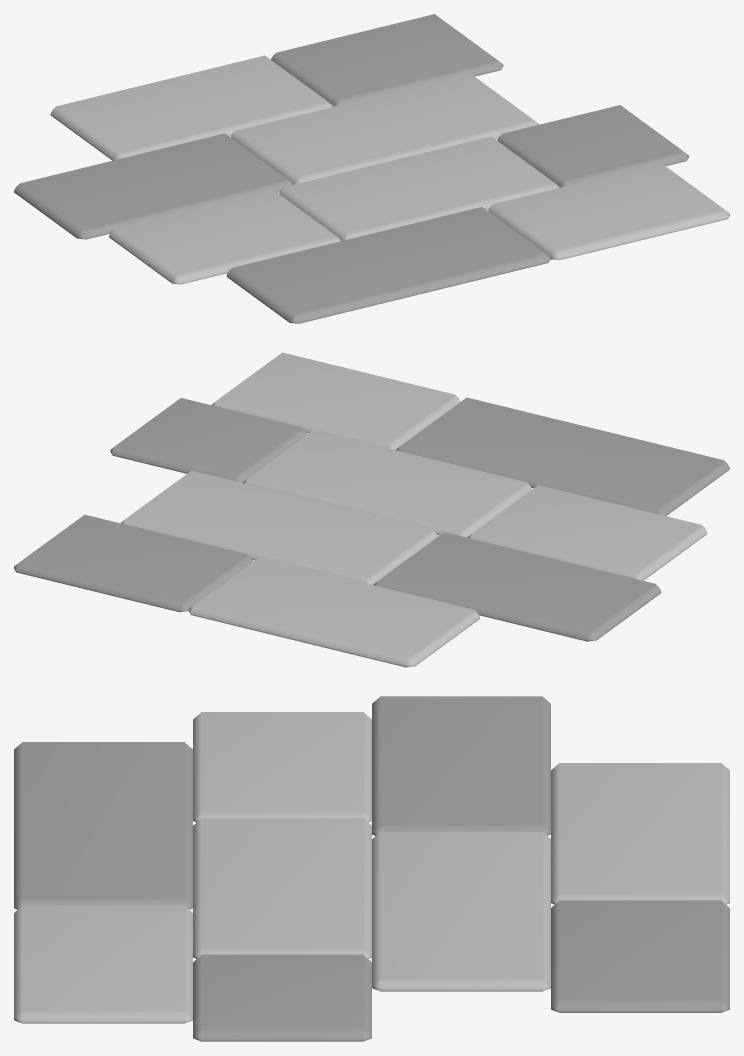
The model's file is Town_8_Path_1.glb.
The picture shows the model from 3 angles, top to bottom: view 1: azimuth 30°, elevation 25°; view 2: azimuth 150°, elevation 25°; view 3: azimuth 270°, elevation 25°; orthographic projection. The views are drawn at different scales.
Visible parts, largest first — view 1: Town_8_Path_1; view 2: Town_8_Path_1; view 3: Town_8_Path_1.
Part boxes in pixels (x1,y1,x2,y2): Town_8_Path_1: (14,14,729,323); Town_8_Path_1: (14,352,729,667); Town_8_Path_1: (14,696,729,1041).
Size of the model in its own units: 4 by 0.0536 by 3.57.
1 material, 1 textured.
